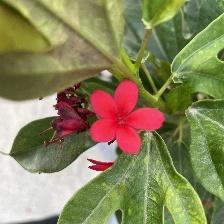jatropha: (89, 80, 166, 155)
